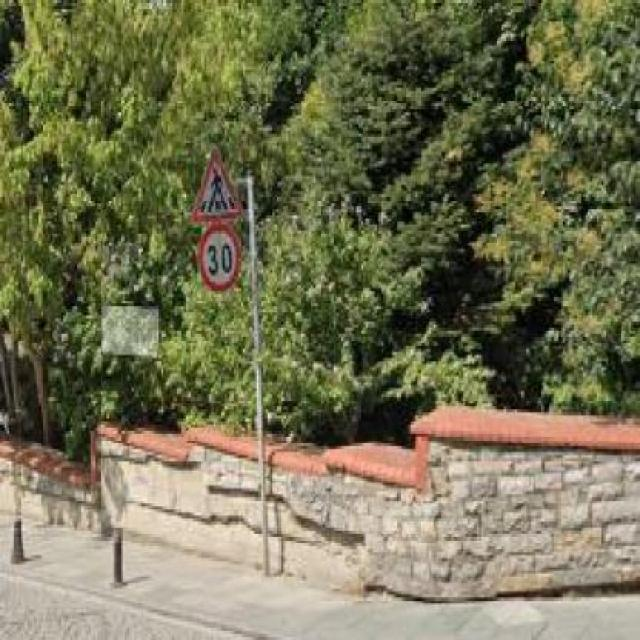yaya: (191, 146, 246, 220)
